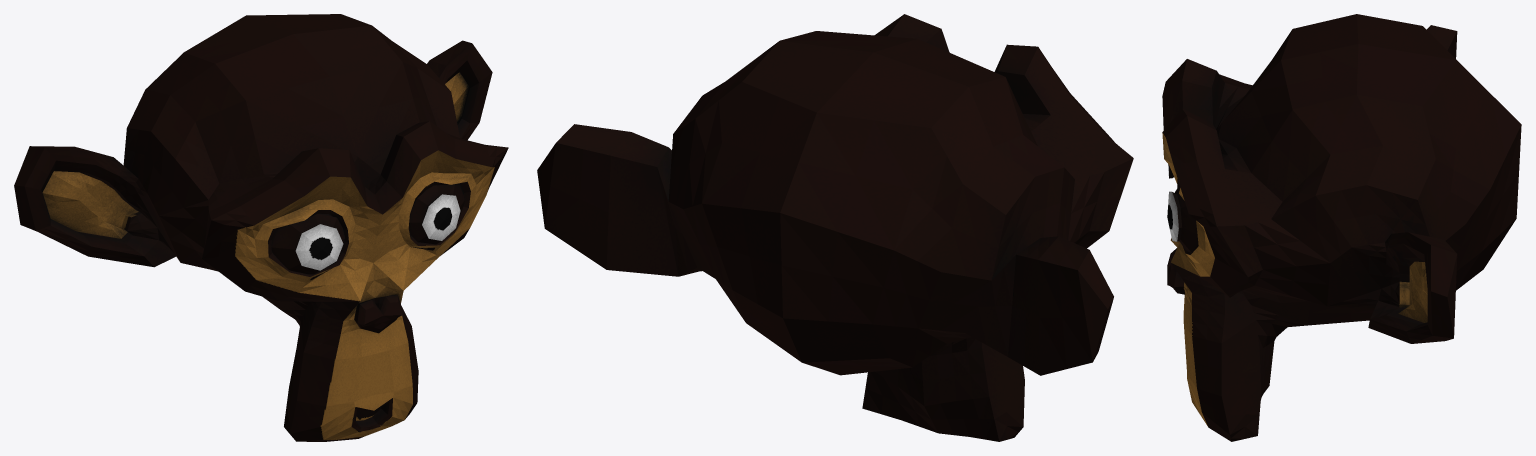
The model's file is affe.obj.
The picture shows the model from 3 angles, left to right: view 1: azimuth 30°, elevation 25°; view 2: azimuth 150°, elevation 25°; view 3: azimuth 270°, elevation 25°; orthographic projection. The views are drawn at different scales.
Visible parts, largest first — view 1: Monkey; view 2: Monkey; view 3: Monkey.
Part boxes in pixels (x1,y1,x2,y2): Monkey: [14, 14, 508, 441]; Monkey: [537, 14, 1133, 441]; Monkey: [1162, 14, 1521, 441].
Bounding box in the file's own units: 2.73 × 1.97 × 1.7.
4 materials, 4 textured.
